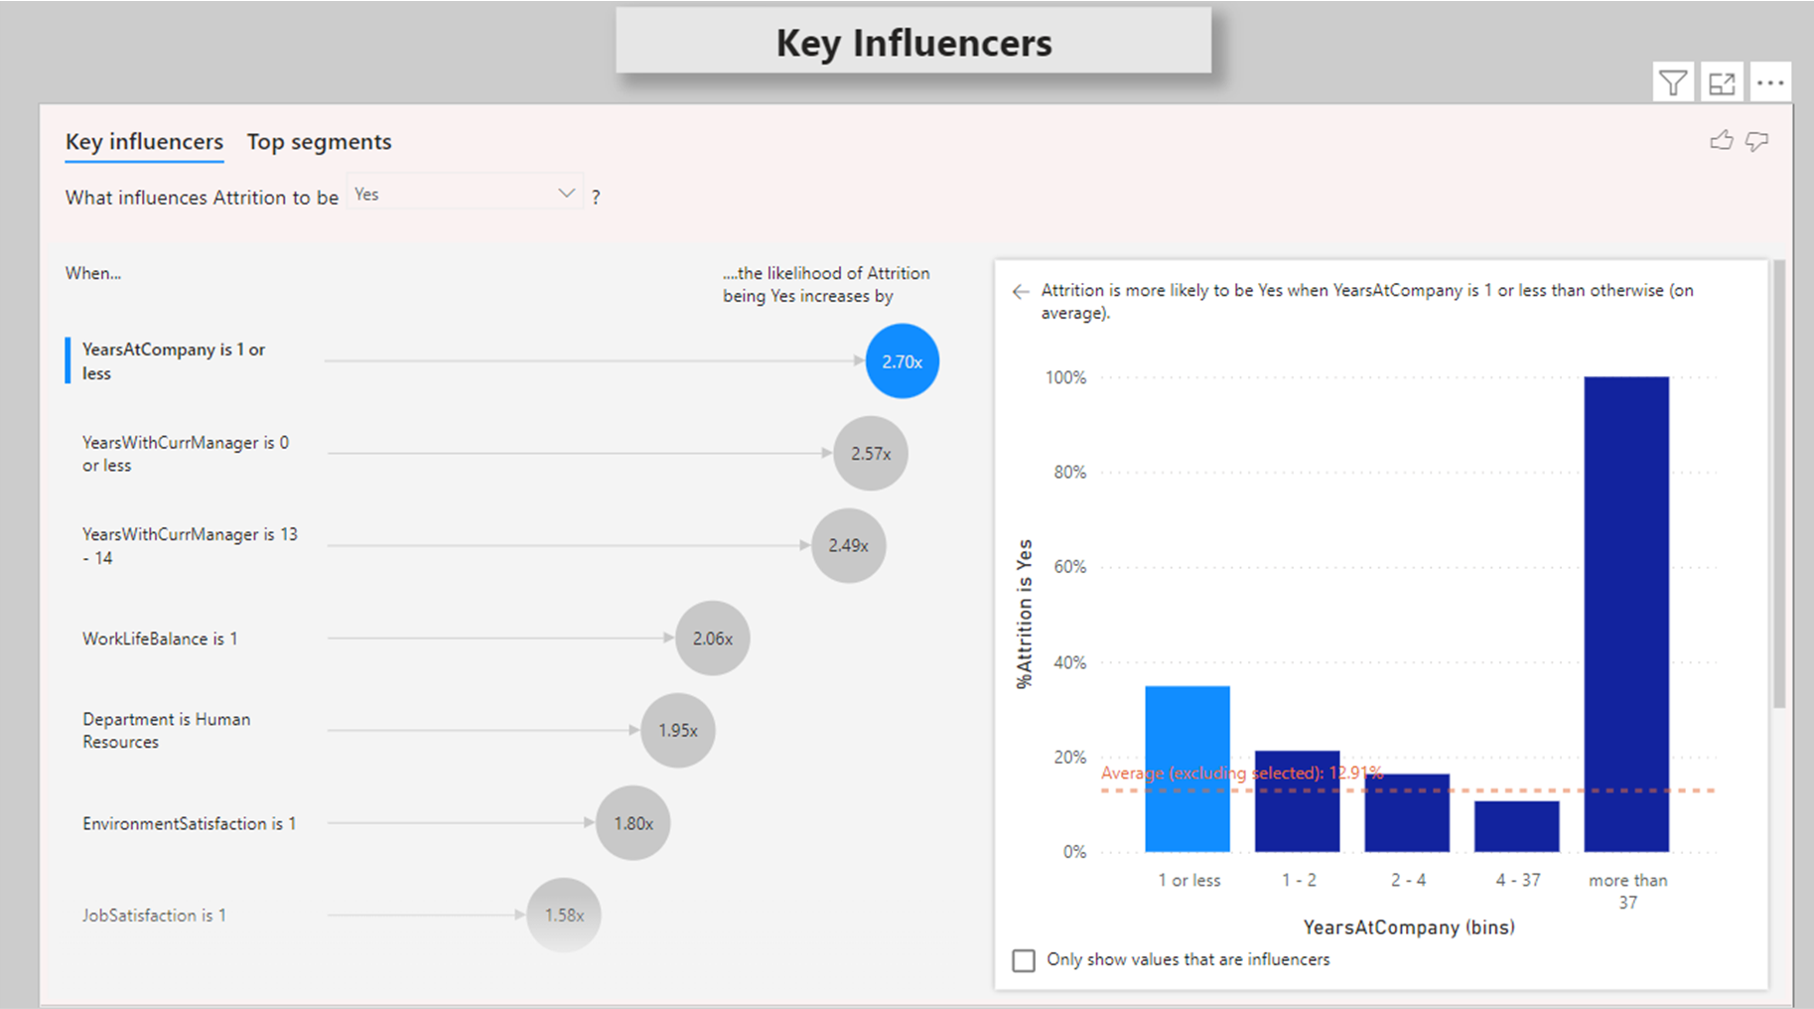

The page's visual inventory and layout, read from the dashboard file:
{"tool":"powerbi","page":{"name":"Key Influencer","canvas":[1280,720],"ordinal":2},"visuals":[{"type":"keyDriversVisual","fields":{"Target":["Attrition data.Attrition"],"ExplainBy":["Attrition data.JobInvolvement","Attrition data.PercentSalaryHike","Attrition data.JobRole","Attrition data.EnvironmentSatisfaction","Attrition data.YearsAtCompany","Attrition data.JobSatisfaction","Attrition data.Department","Attrition data.YearsWithCurrManager","Attrition data.WorkLifeBalance","Attrition data.YearsSinceLastPromotion"]},"box":[34.2,78.2,1216.3,625.9],"z":0},{"type":"textbox","box":[434,11,413.2,45.2],"z":1000}]}

Visuals, with their boxes on the page's 1280x720 design canvas (x1, y1, x2, y2). These are canvas units, not pixel positions in the 1814x1009 screenshot, which may show the page scaled, cropped or inside an application window:
keyDriversVisual - Attrition data.Attrition x Attrition data.JobInvolvement: 34 78 1250 704
textbox: 434 11 847 56
